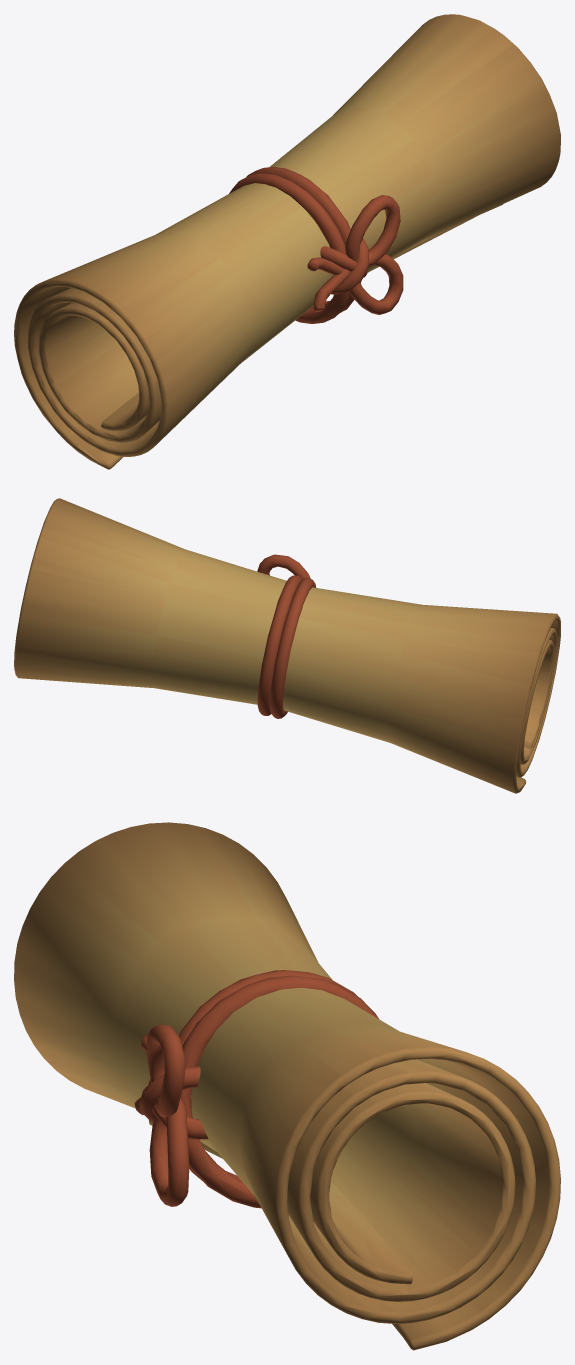
The model's file is quest_scroll.glb.
The picture shows the model from 3 angles, top to bottom: view 1: azimuth 30°, elevation 25°; view 2: azimuth 150°, elevation 25°; view 3: azimuth 270°, elevation 25°; orthographic projection. The views are drawn at different scales.
Visible parts, largest first — view 1: QuestScroll; view 2: QuestScroll; view 3: QuestScroll.
Boxes of the visible parts, box(x1,y1,x2,y2) form: QuestScroll: box(14, 14, 560, 469); QuestScroll: box(14, 498, 560, 793); QuestScroll: box(14, 822, 560, 1350).
Size of the model in its own units: 1 by 0.4824 by 0.5984.
